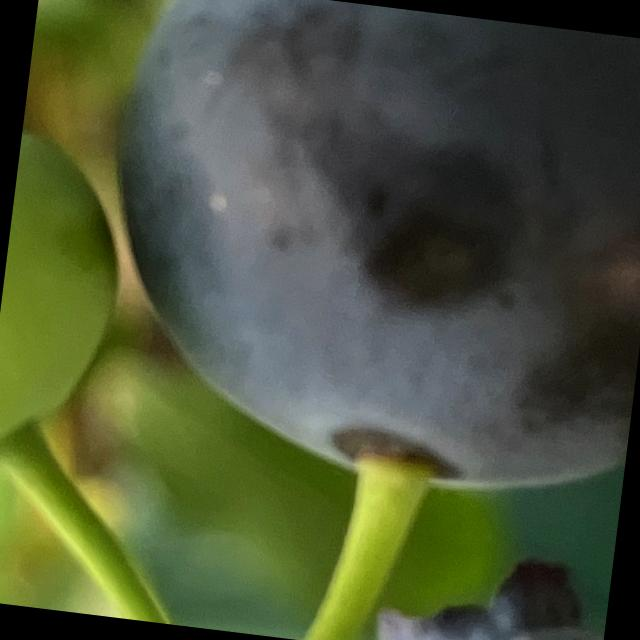Blueberries: (72, 0, 640, 516), (0, 8, 147, 531)
